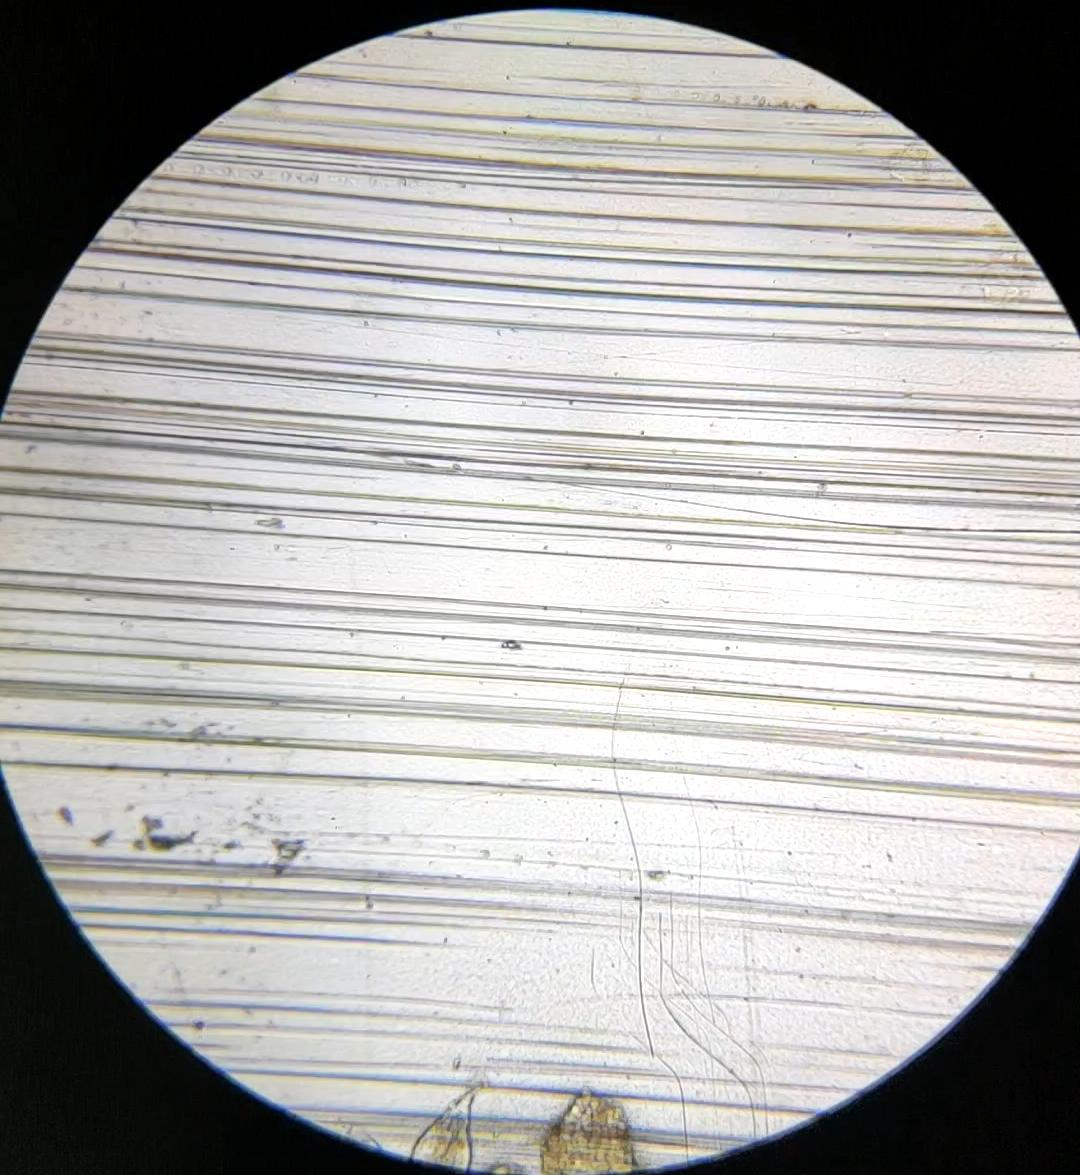Do: (409, 1077, 483, 1174)
